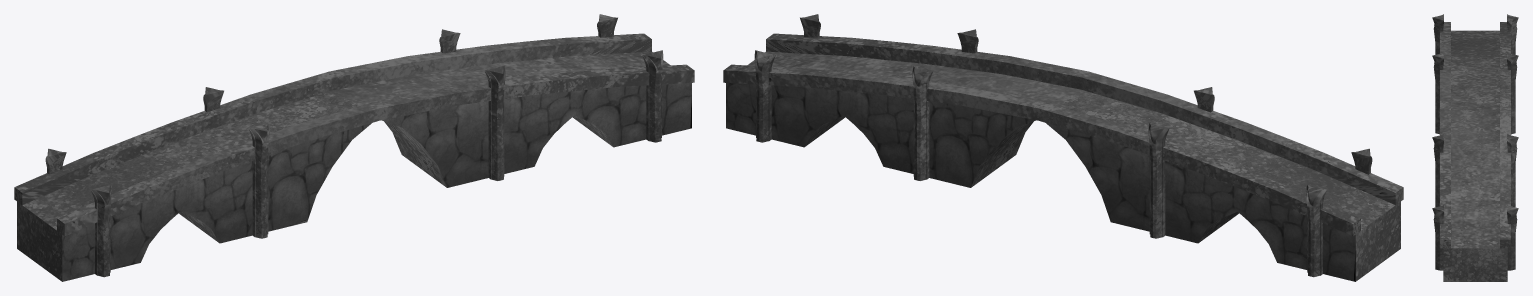
The model's file is ruraltown_bridge_medium.fbx.
The picture shows the model from 3 angles, left to right: view 1: azimuth 30°, elevation 25°; view 2: azimuth 150°, elevation 25°; view 3: azimuth 270°, elevation 25°; orthographic projection. The views are drawn at different scales.
Visible parts, largest first — view 1: bridge_medium; view 2: bridge_medium; view 3: bridge_medium.
Boxes of the visible parts, x1=… form: bridge_medium: x1=14, y1=14, x2=694, y2=281; bridge_medium: x1=723, y1=14, x2=1403, y2=281; bridge_medium: x1=1432, y1=14, x2=1518, y2=281.
Size of the model in its own units: 1600 by 262 by 269.
